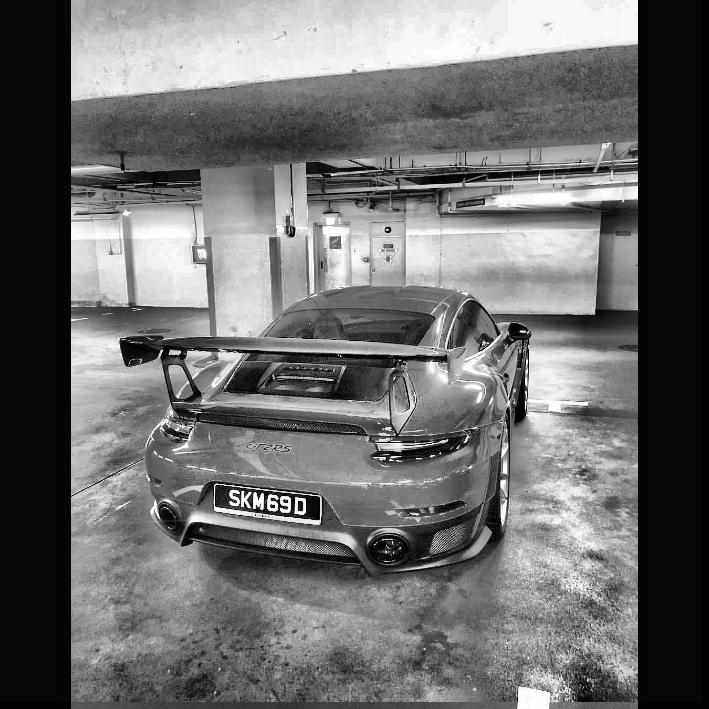License-Plates: (215, 485, 319, 520)
